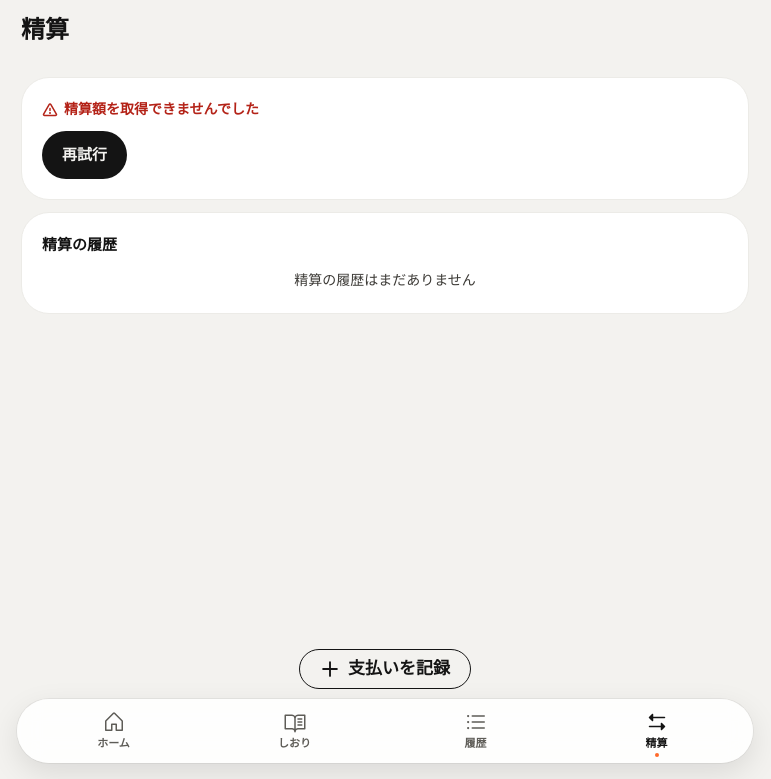
Test: 精算の画面（14・14f・14g・14i） › FW-05: 残額の取得失敗はその欄だけ失敗にして再試行し、確認へは進めない
Expected: the text "精算額を取得できませんでした" is shown, left=42, top=98, right=259, bottom=121
Expected: the text "精算の履歴はまだありません" is shown, left=294, top=272, right=476, bottom=288
Click the button "再試行".
click(84, 155)  # box left=42, top=131, right=127, bottom=179
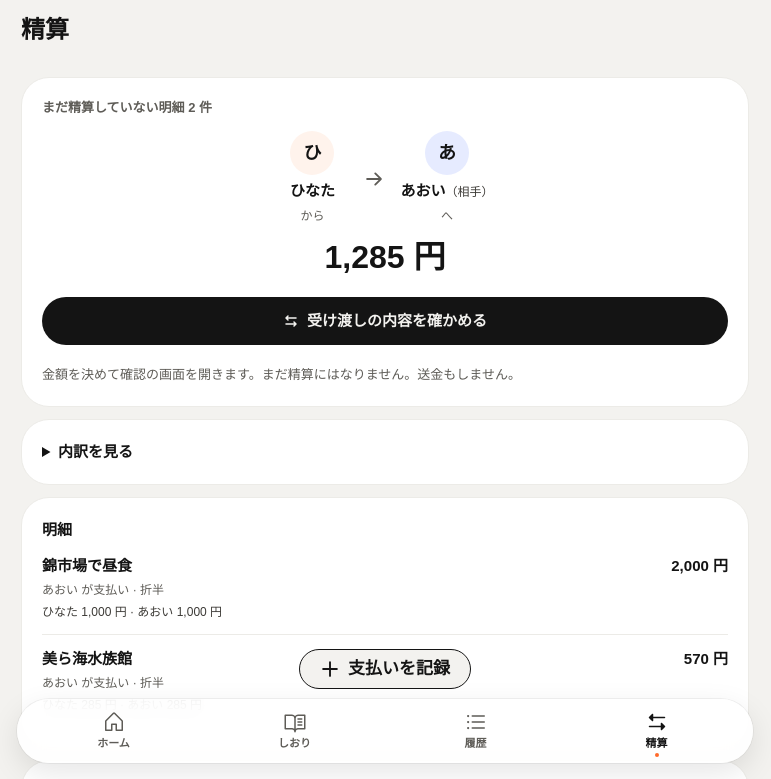
Now the text "1,285 円" is shown, box left=324, top=239, right=446, bottom=275
Now the button "受け渡しの内容を確かめる" is shown, box left=42, top=297, right=728, bottom=345
